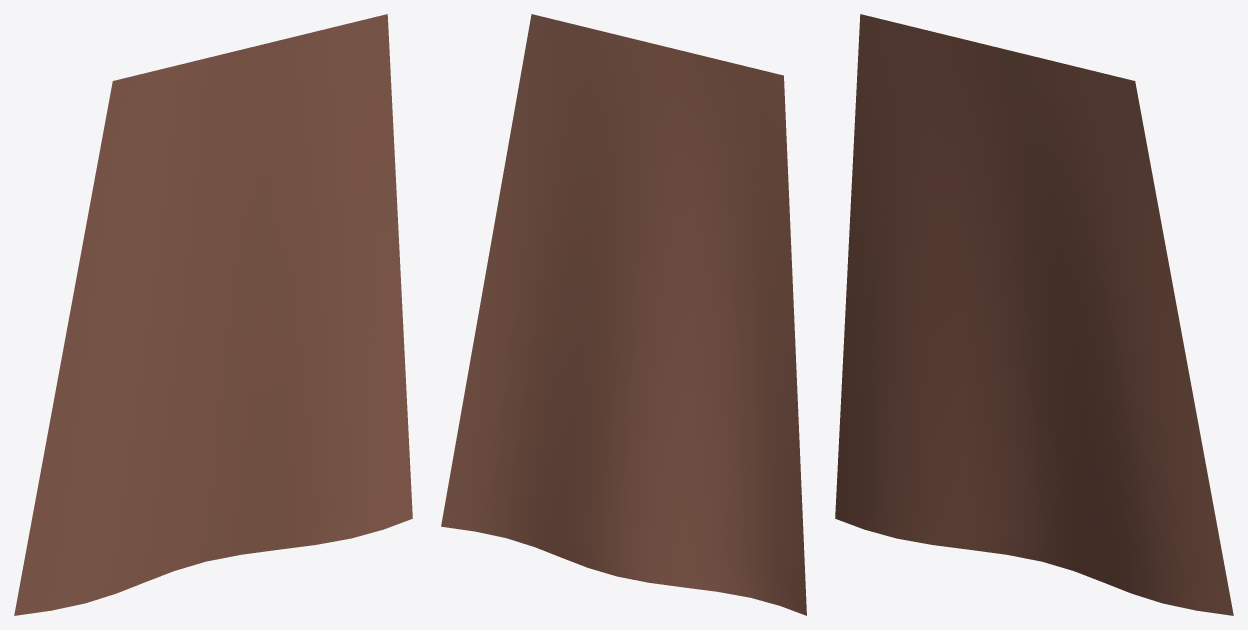
Rendered from wander-cape.gltf.
3 renders of one model, left to right at view 1: azimuth 30°, elevation 25°; view 2: azimuth 150°, elevation 25°; view 3: azimuth 330°, elevation 25°, orthographic. The views are drawn at different scales.
Visible parts, largest first — view 1: wander-cape; view 2: wander-cape; view 3: wander-cape.
Boxes of the visible parts, x1=… form: wander-cape: x1=14, y1=14, x2=412, y2=615; wander-cape: x1=441, y1=14, x2=806, y2=615; wander-cape: x1=835, y1=14, x2=1233, y2=615.
Size of the model in its own units: 0.725 by 0.95 by 0.14.
